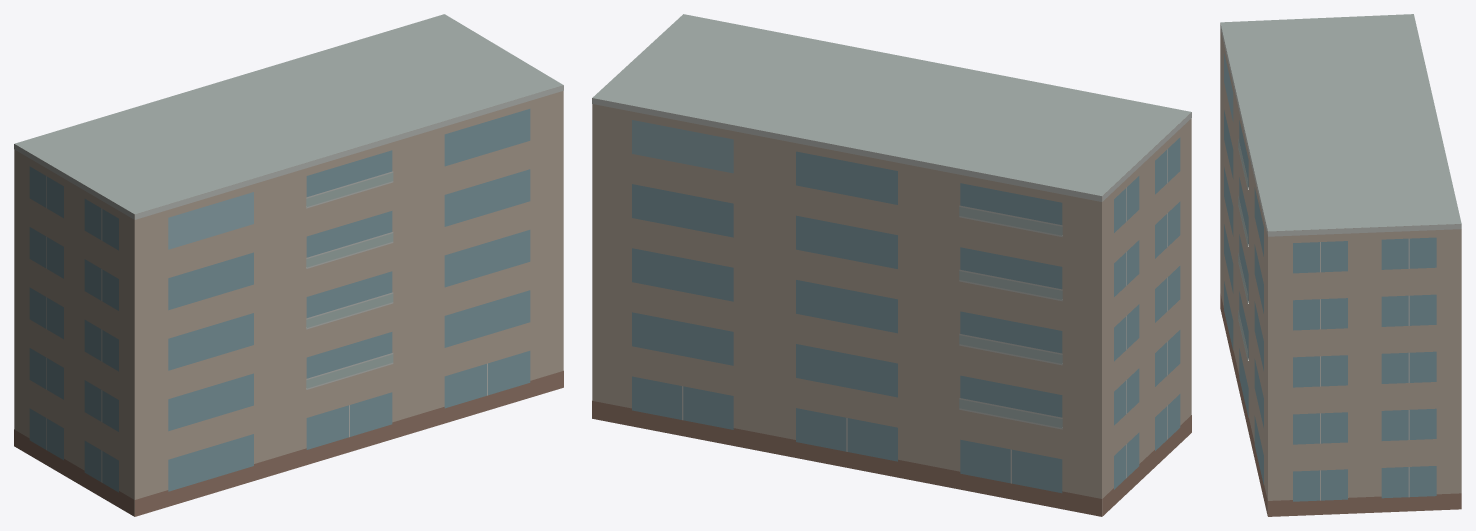
The model's file is survey-upis-32676386.glb.
The picture shows the model from 3 angles, left to right: view 1: azimuth 30°, elevation 25°; view 2: azimuth 150°, elevation 25°; view 3: azimuth 270°, elevation 25°; orthographic projection. The views are drawn at different scales.
Parts seen in each view (by area): view 1: survey-upis-32676386.tmp; view 2: survey-upis-32676386.tmp; view 3: survey-upis-32676386.tmp.
Part boxes in pixels (x1,y1,x2,y2): survey-upis-32676386.tmp: (14, 14, 563, 516); survey-upis-32676386.tmp: (592, 14, 1191, 516); survey-upis-32676386.tmp: (1220, 14, 1461, 516).
Bounding box in the file's own units: 21.58 × 13.2 × 10.13.
